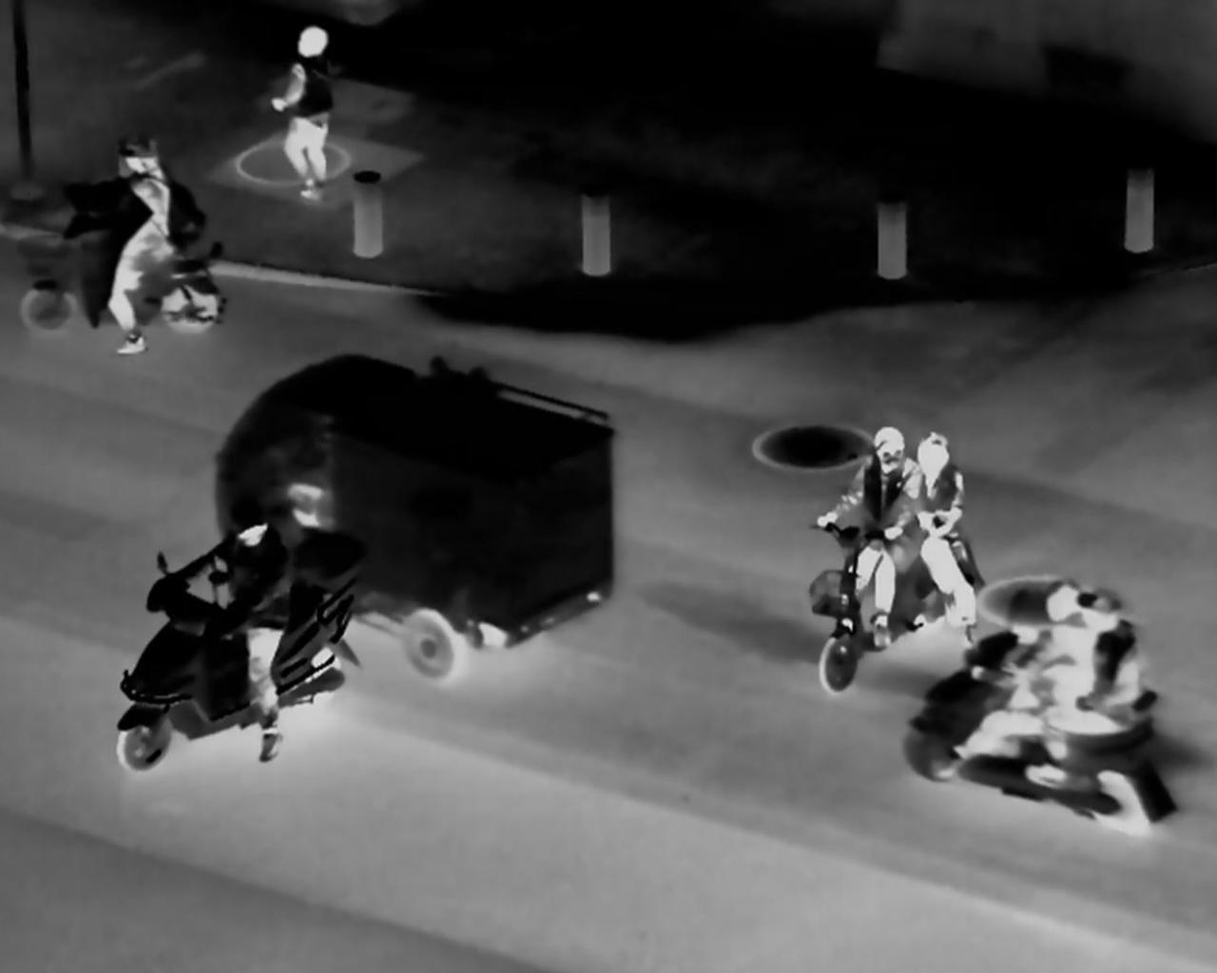person: (191, 494, 301, 786), (89, 129, 203, 374), (824, 406, 919, 649), (912, 428, 984, 649), (264, 26, 348, 205), (1029, 584, 1100, 787), (959, 594, 1037, 756), (1076, 575, 1146, 750)
